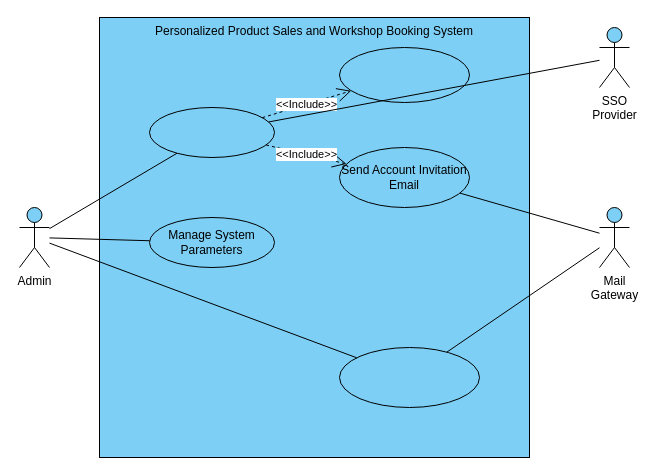
Some shapes in this 655 by 475 pixel diagram are drawn without their labels. Each missing label, with the centre of its shape:
Assign Role and Location: the point at 404,74
Manage User Accounts: the point at 211,132
Resend Unknown-Outcome Email: the point at 409,377
